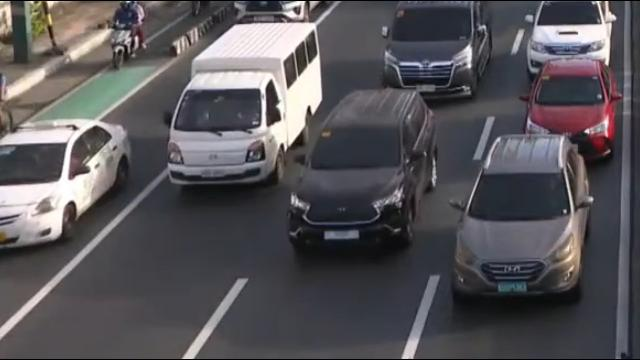car: (279, 88, 441, 257), (448, 131, 587, 303), (0, 122, 135, 254), (377, 0, 493, 92), (528, 60, 616, 156)
motorcycle: (105, 19, 143, 71)
van: (163, 19, 321, 187)
